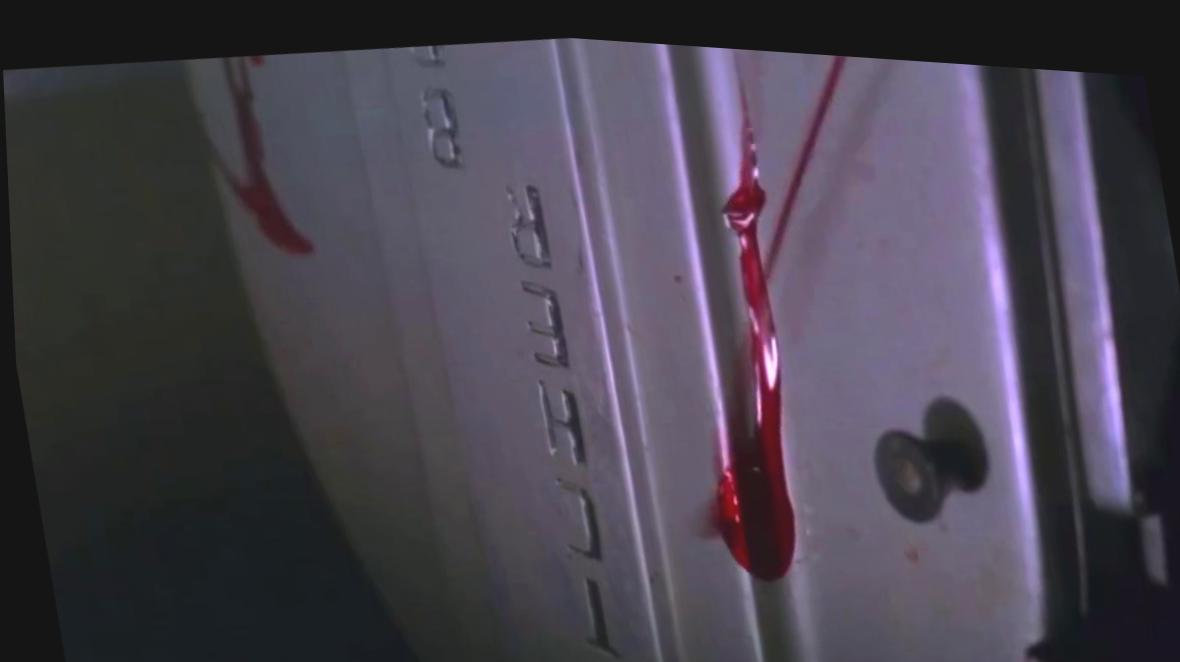Fire: (708, 44, 850, 572), (227, 68, 309, 251)
